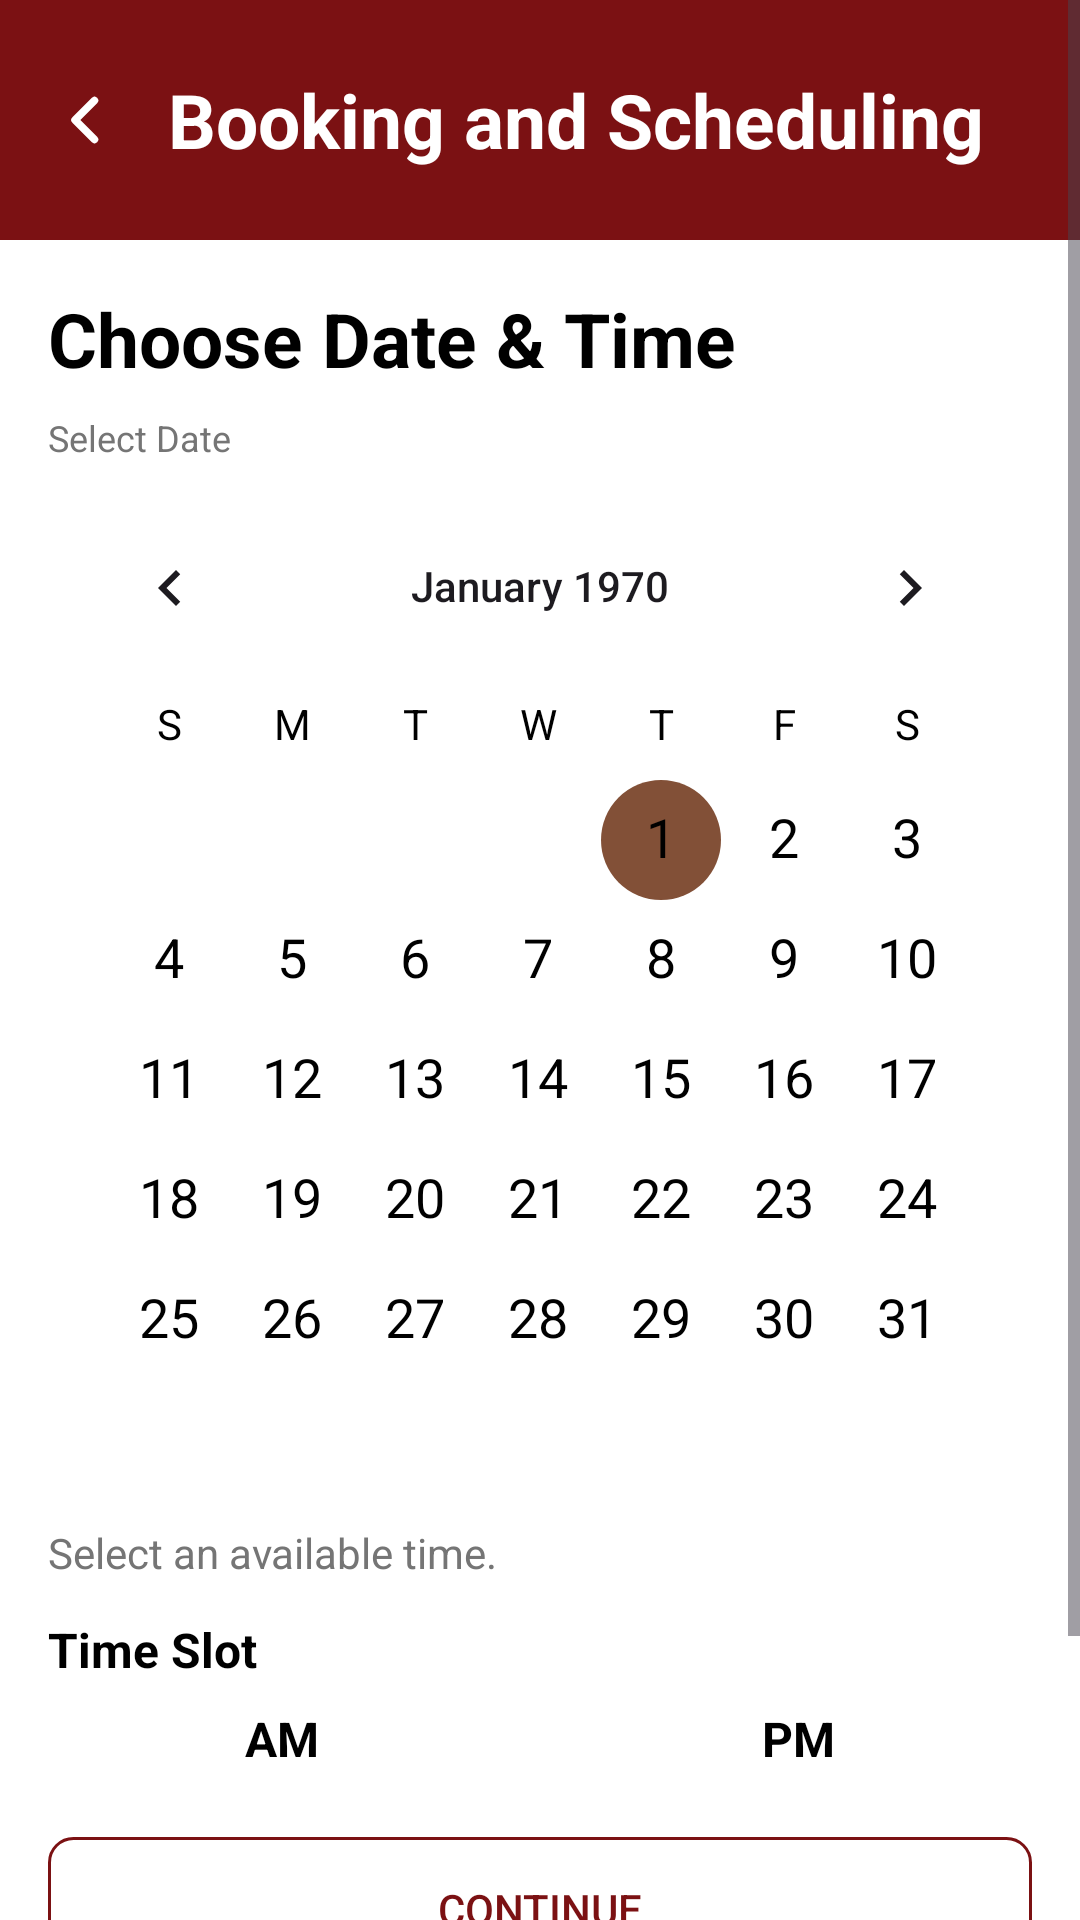

Where to tap for icons on this 1080w x 1920h app screen, as point (x, y):
Back: point (85, 120)
